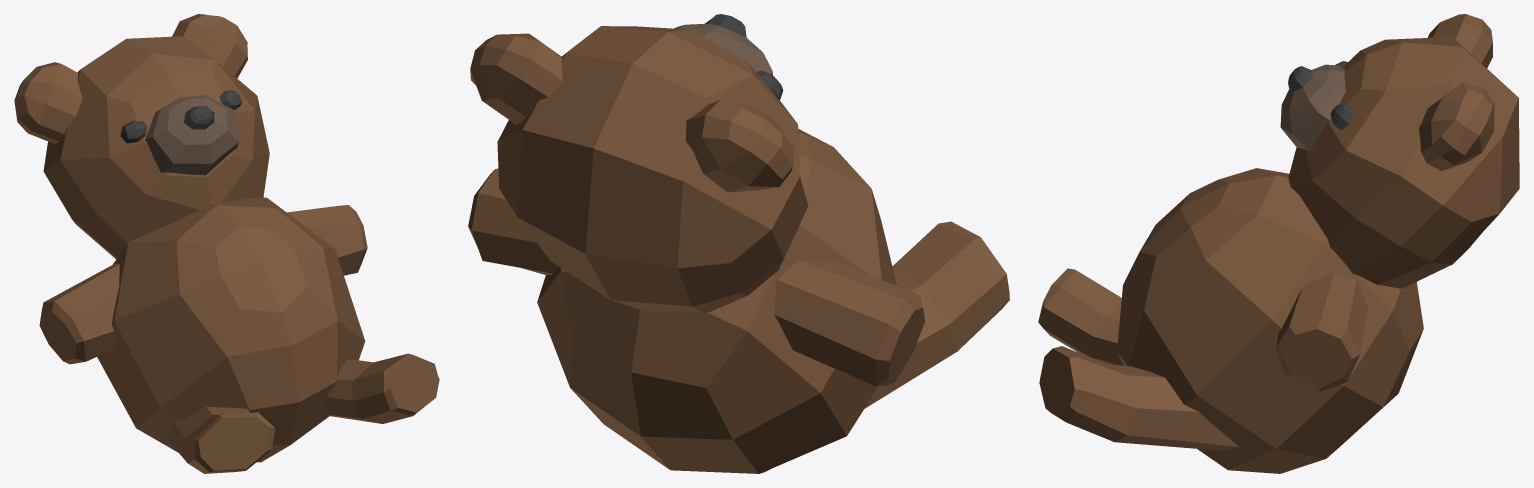
File: Toy_Bear_1.fbx
The picture shows the model from 3 angles, left to right: view 1: azimuth 30°, elevation 25°; view 2: azimuth 150°, elevation 25°; view 3: azimuth 270°, elevation 25°; orthographic projection. The views are drawn at different scales.
Parts seen in each view (by area): view 1: Toy_Bear_1; view 2: Toy_Bear_1; view 3: Toy_Bear_1.
Part boxes in pixels (<box>): Toy_Bear_1: <box>14,14,439,473</box>; Toy_Bear_1: <box>468,14,1009,473</box>; Toy_Bear_1: <box>1038,14,1519,473</box>.
Bounding box in the file's own units: 19.5 × 23.33 × 21.79.
